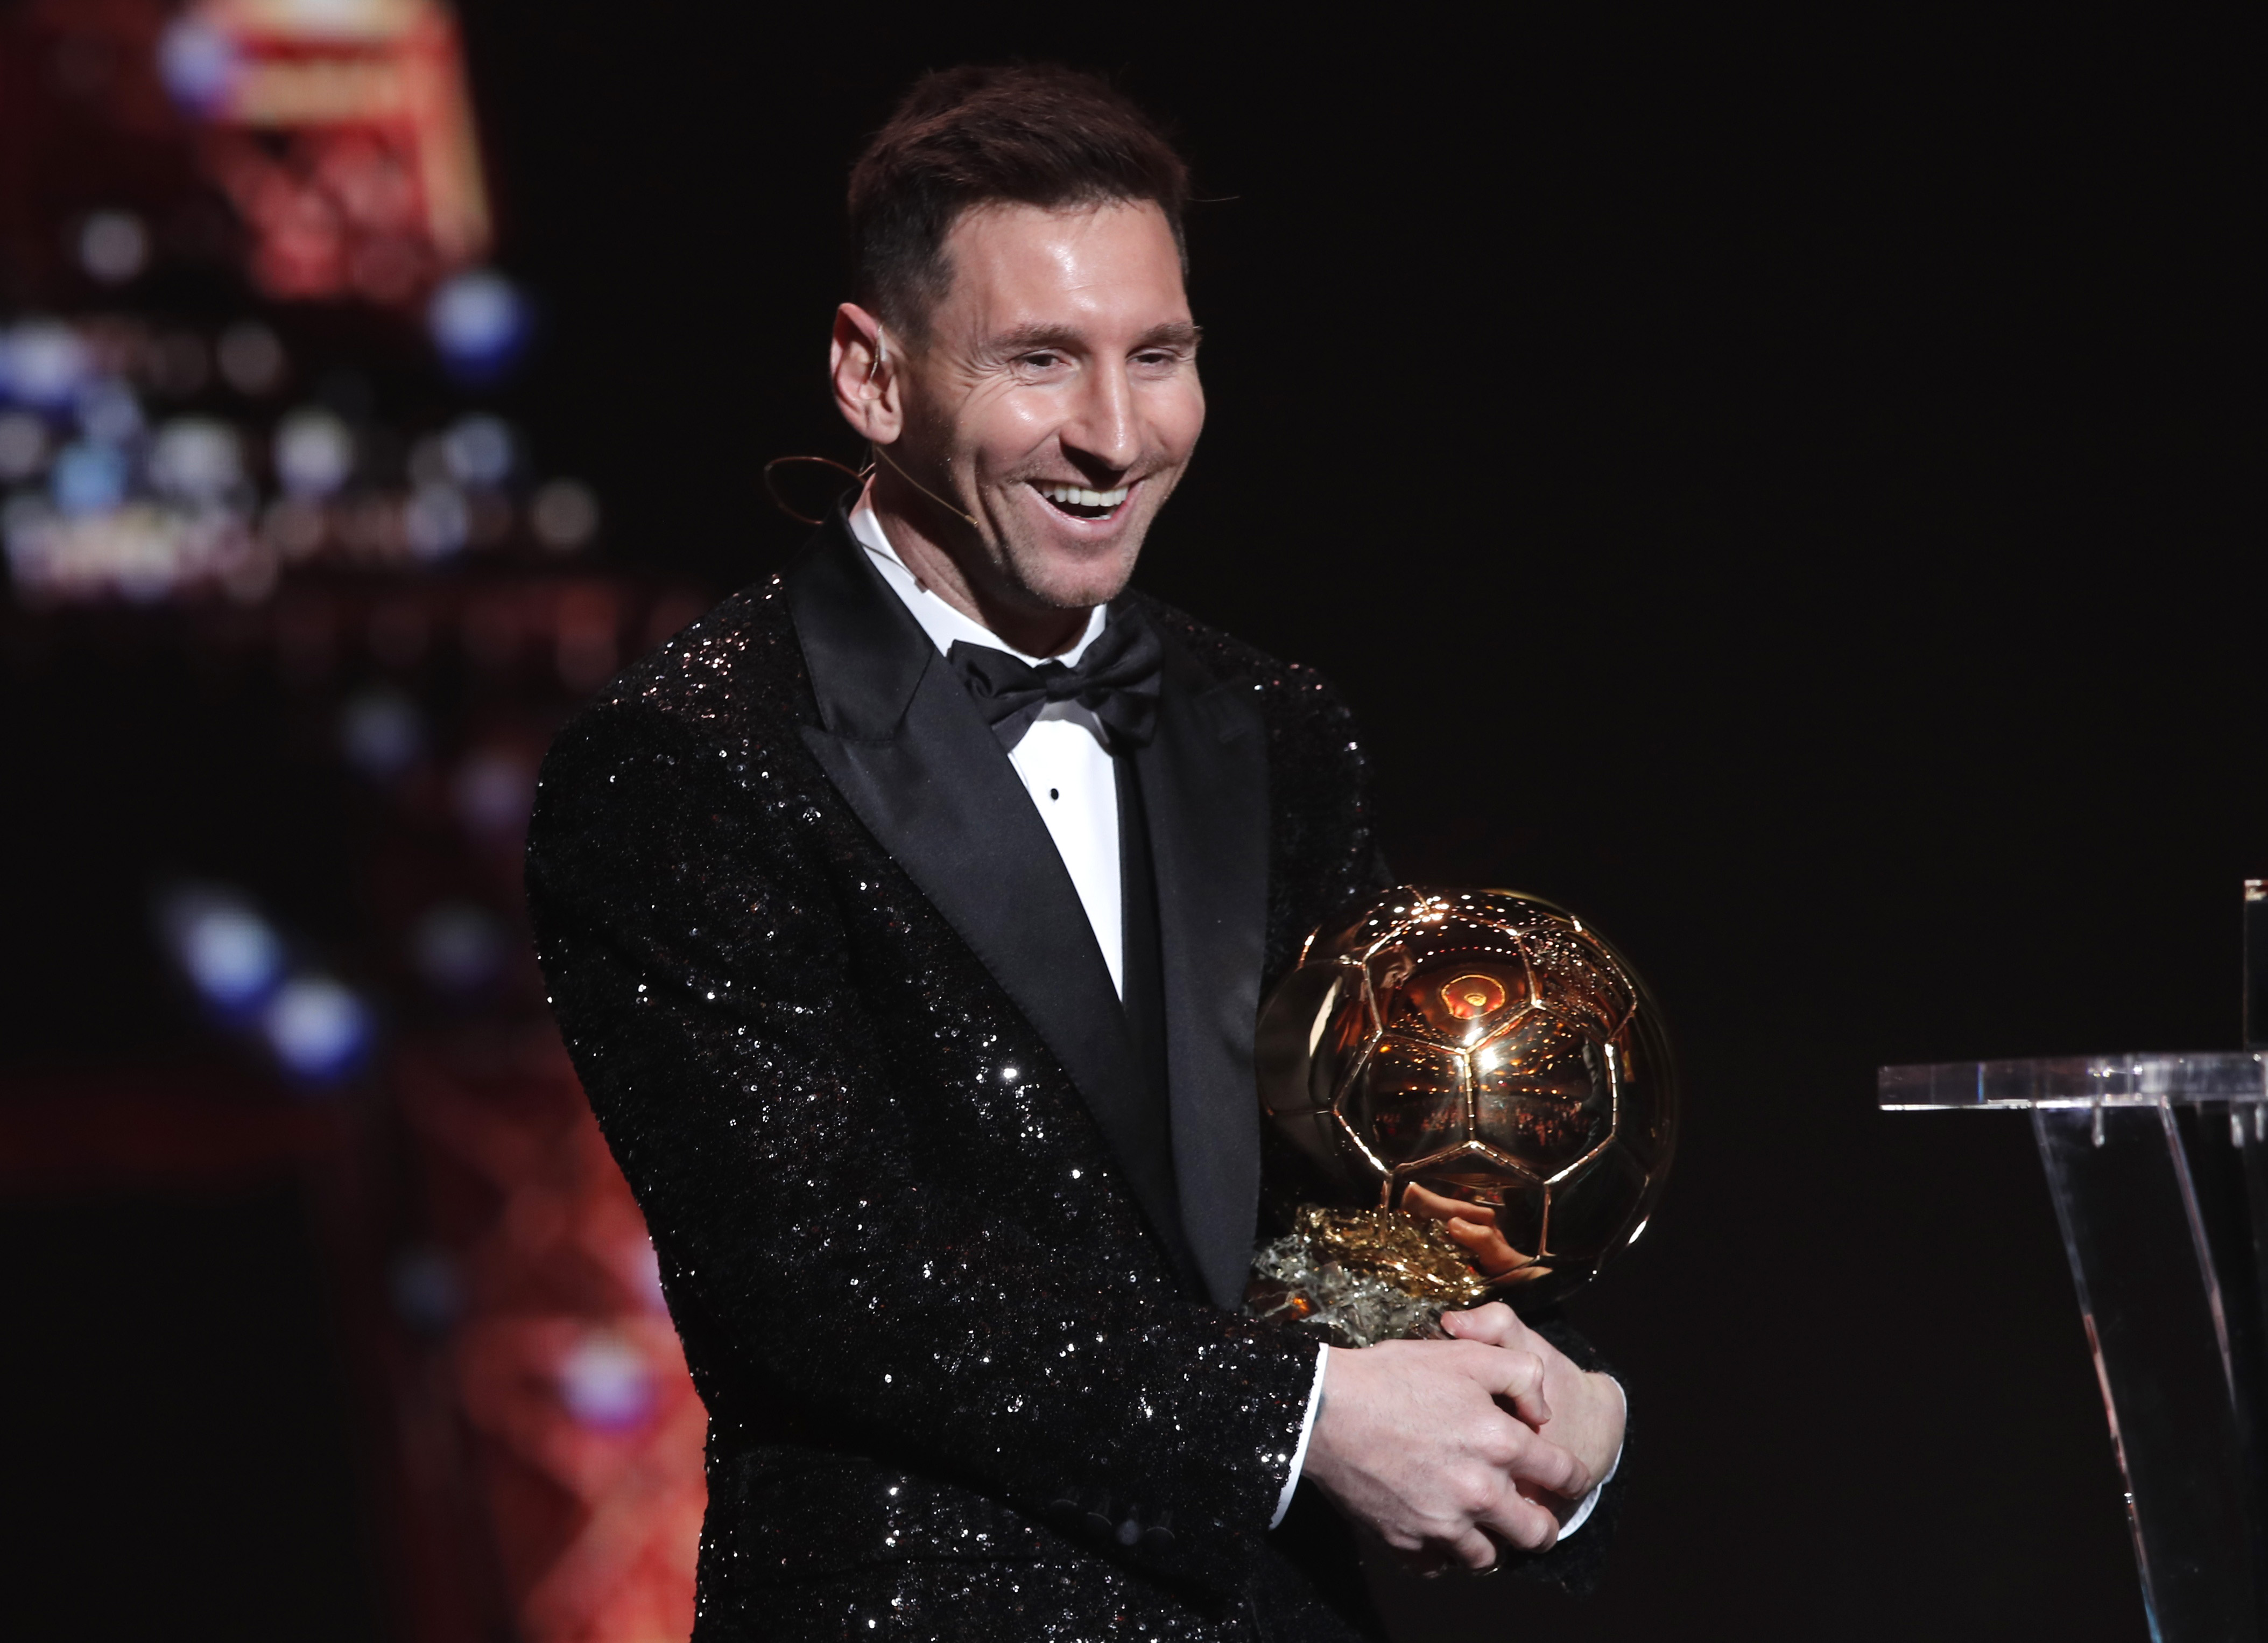NoMask: (960, 300, 1206, 595)
